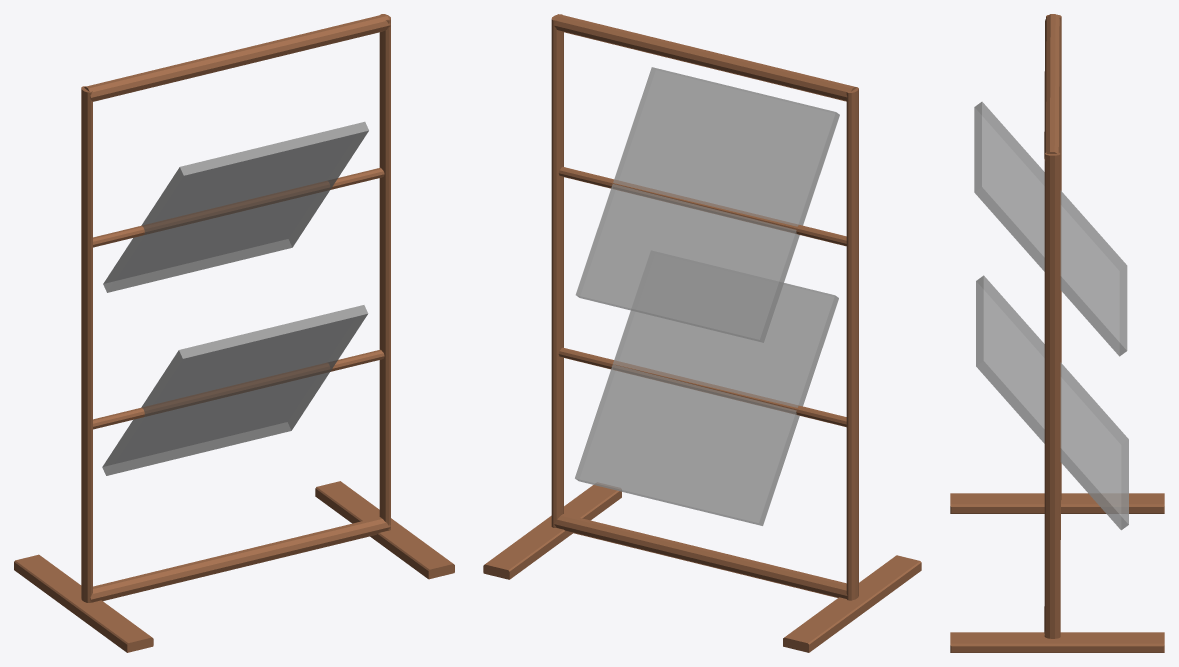
The model's file is Espejo_luz.fbx.
The picture shows the model from 3 angles, left to right: view 1: azimuth 30°, elevation 25°; view 2: azimuth 150°, elevation 25°; view 3: azimuth 270°, elevation 25°; orthographic projection. The views are drawn at different scales.
Visible parts, largest first — view 1: polySurface213, polySurface210, polySurface211; view 2: polySurface210, polySurface211, polySurface213; view 3: polySurface213, polySurface210, polySurface211.
Part boxes in pixels (box(x1,y1,x2,y2)): polySurface213: box(14, 14, 454, 652); polySurface210: box(103, 121, 368, 292); polySurface211: box(102, 305, 368, 475); polySurface210: box(575, 67, 839, 342); polySurface211: box(575, 283, 838, 525); polySurface213: box(483, 14, 921, 652); polySurface213: box(950, 14, 1164, 652); polySurface210: box(974, 101, 1127, 356); polySurface211: box(976, 275, 1128, 530).
Size of the model in its own units: 3.38 by 5.15 by 2.02.
